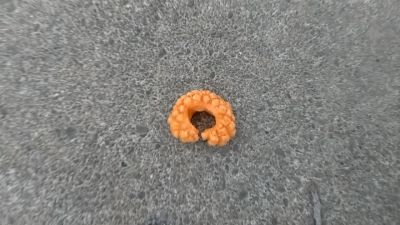eggs: (166, 89, 236, 147)
